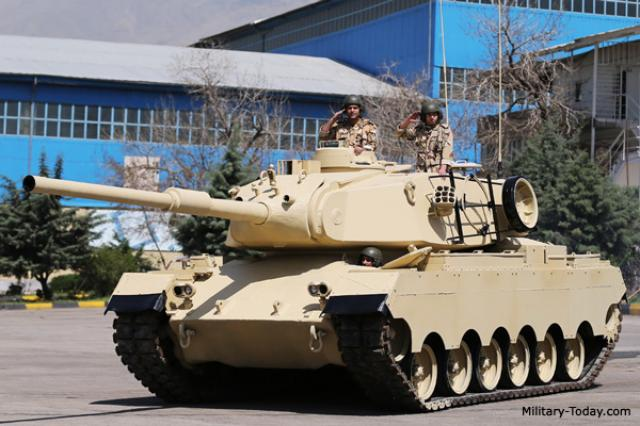other: (400, 100, 458, 161), (322, 95, 374, 146)
tank: (108, 148, 616, 397)
